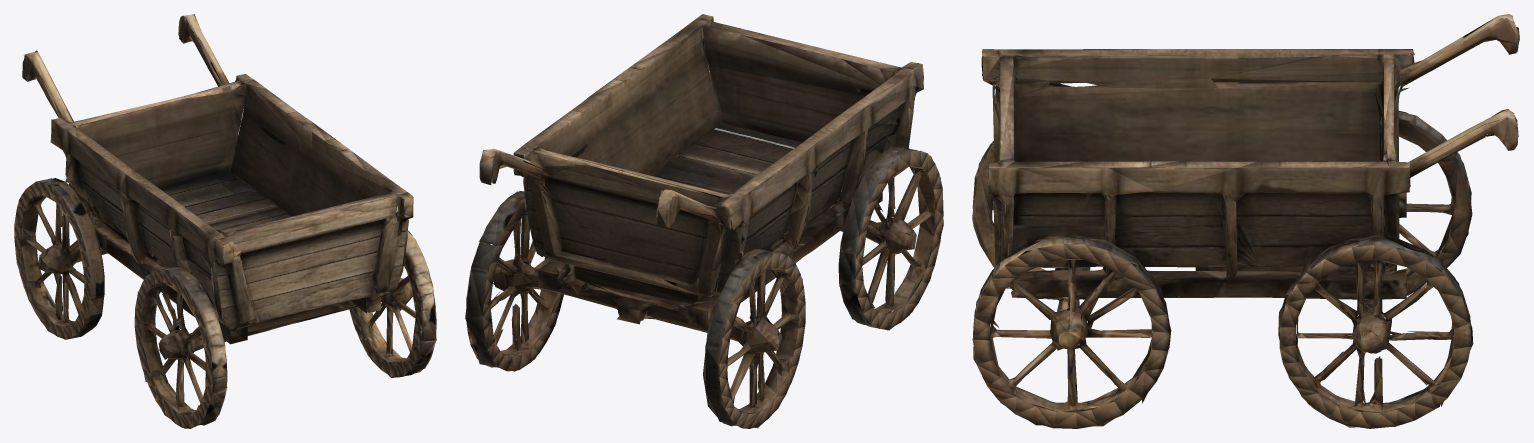
The model's file is cart_plain_b_lod0.glb.
The picture shows the model from 3 angles, left to right: view 1: azimuth 30°, elevation 25°; view 2: azimuth 150°, elevation 25°; view 3: azimuth 270°, elevation 25°; orthographic projection. The views are drawn at different scales.
Visible parts, largest first — view 1: cart_plain_b_lod0; view 2: cart_plain_b_lod0; view 3: cart_plain_b_lod0.
Part boxes in pixels (x1,y1,x2,y2): cart_plain_b_lod0: (14, 14, 436, 428); cart_plain_b_lod0: (465, 14, 943, 428); cart_plain_b_lod0: (972, 14, 1519, 428).
Size of the model in its own units: 2 by 1.8 by 3.
1 material, 1 textured.
